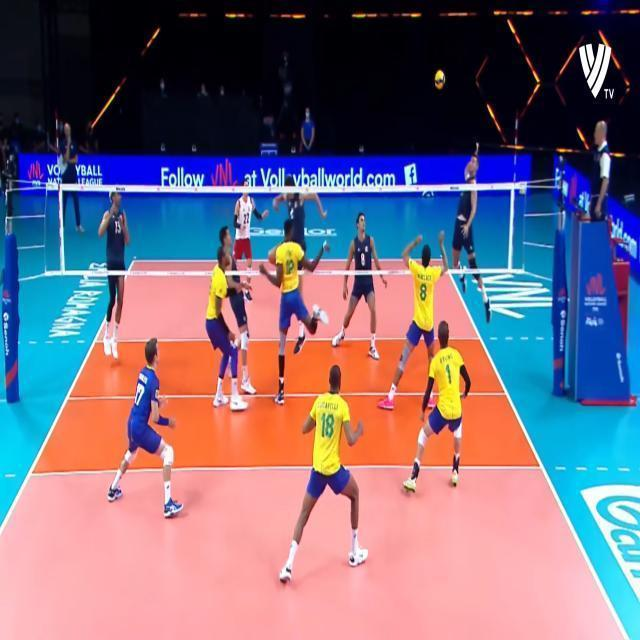volleyball: (434, 69, 446, 89)
